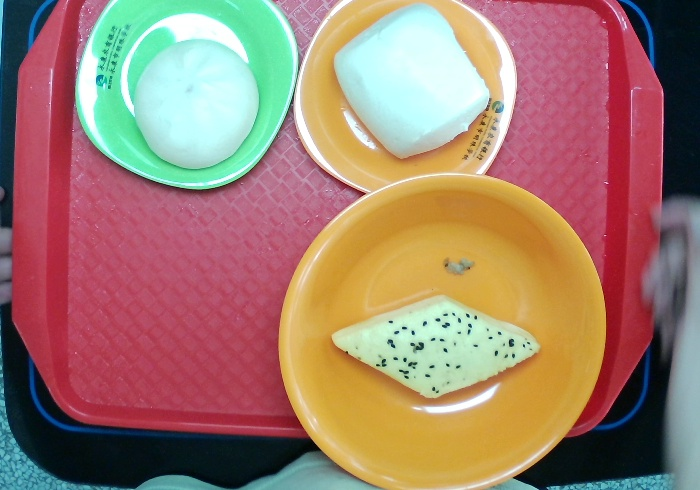YKMZ-Ju_Se_Fang_Die: (292, 1, 521, 192)
YKMZ-Ju_Se_Tang_Wan: (277, 170, 610, 490)
YKMZ-Lv_Se_Fang_Die: (72, 1, 302, 192)
